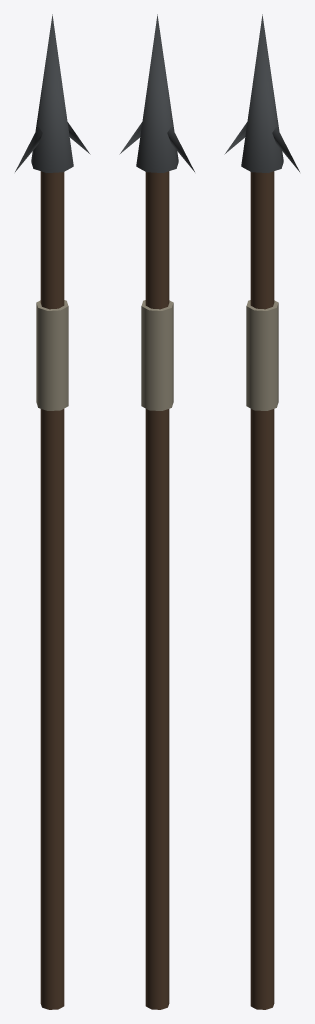
Rendered from SM_Harpoon.fbx.
3 views of the same model, side by side, from view 1: azimuth 30°, elevation 25°; view 2: azimuth 150°, elevation 25°; view 3: azimuth 330°, elevation 25° (orthographic).
Parts seen in each view (by area): view 1: SM_Harpoon; view 2: SM_Harpoon; view 3: SM_Harpoon.
Boxes of the visible parts, left/top/right/bottom form: SM_Harpoon: left=15, top=14, right=90, bottom=1009; SM_Harpoon: left=119, top=14, right=194, bottom=1009; SM_Harpoon: left=224, top=14, right=299, bottom=1009.
Size of the model in its own units: 0.16 by 1.98 by 0.08.
